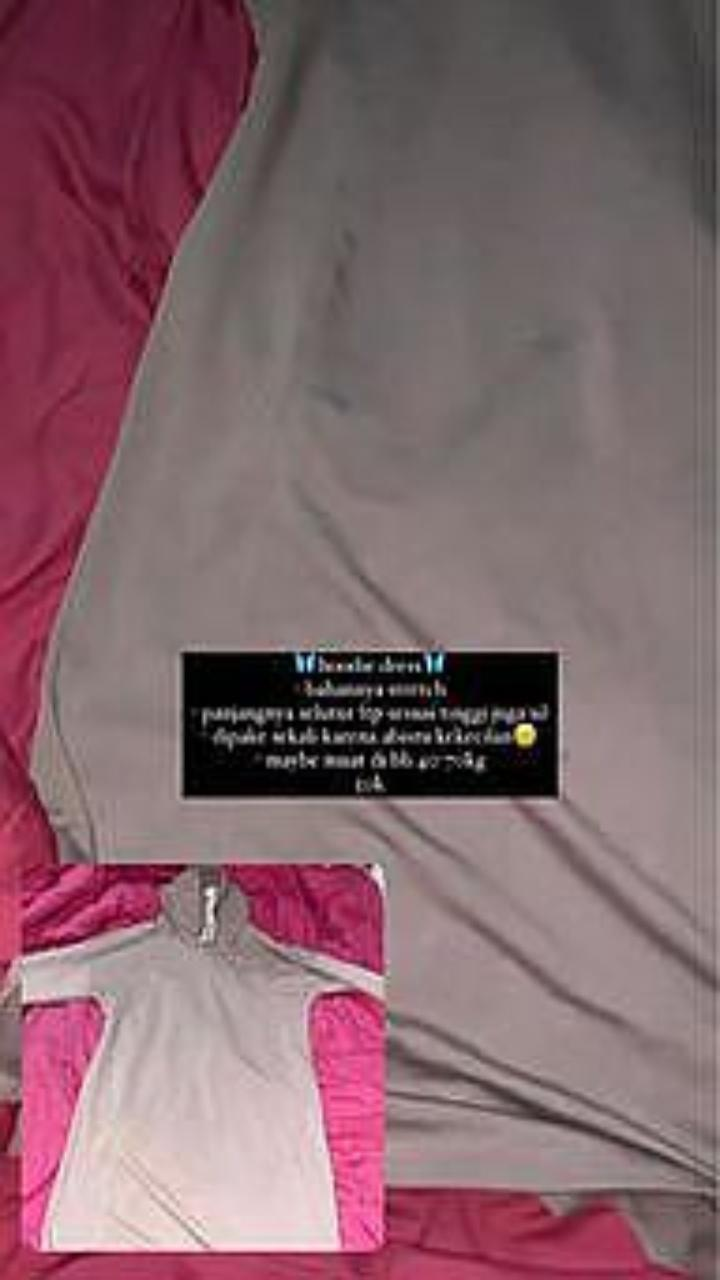T-Shirt: (21, 868, 382, 1250)
